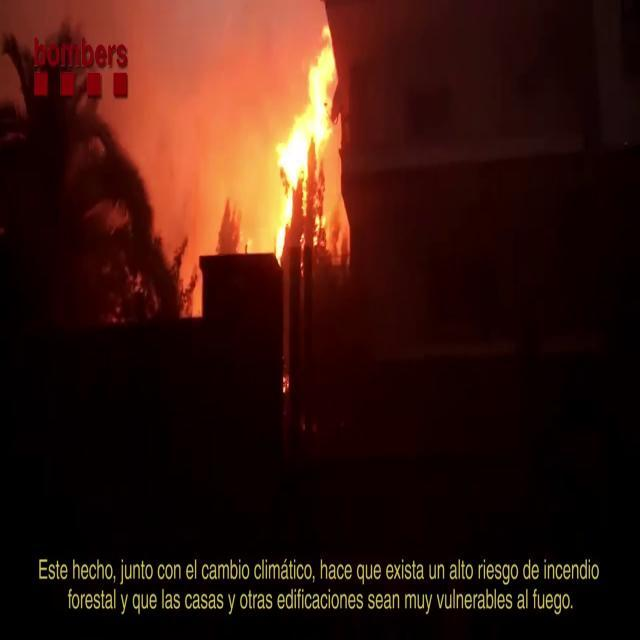Fire: (266, 18, 352, 266)
Smoke: (102, 0, 286, 273)
